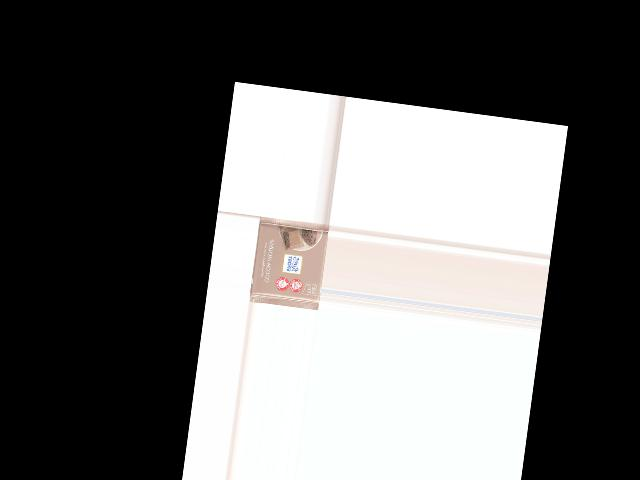chocolate: (248, 216, 329, 309)
